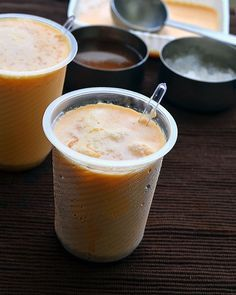jigirthanda: (51, 104, 156, 252), (1, 12, 47, 169)
